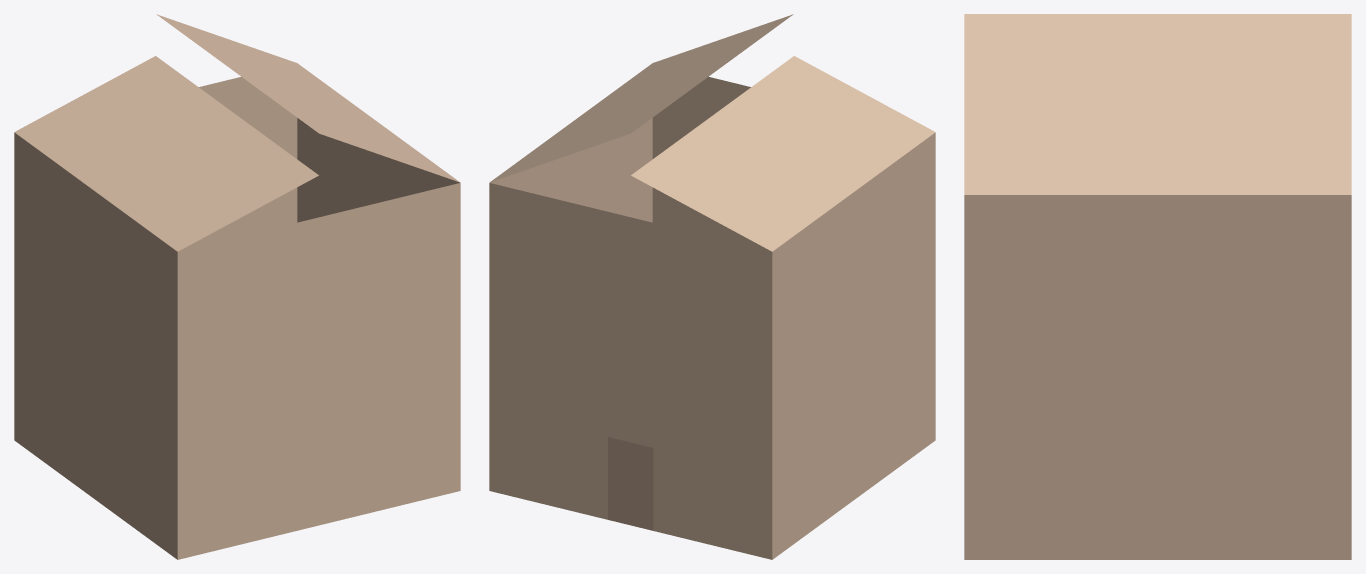
The model's file is box_closed.glb.
3 views of the same model, side by side, from view 1: azimuth 30°, elevation 25°; view 2: azimuth 150°, elevation 25°; view 3: azimuth 270°, elevation 25° (orthographic). The views are drawn at different scales.
Visible parts, largest first — view 1: cardboardBoxClosed(Clone); view 2: cardboardBoxClosed(Clone); view 3: cardboardBoxClosed(Clone).
Part boxes in pixels (box(x1,y1,x2,y2)): cardboardBoxClosed(Clone): box(14, 14, 460, 559); cardboardBoxClosed(Clone): box(489, 14, 935, 559); cardboardBoxClosed(Clone): box(964, 14, 1351, 559).
Bounding box in the file's own units: 0.4463 × 0.5901 × 0.4463.
